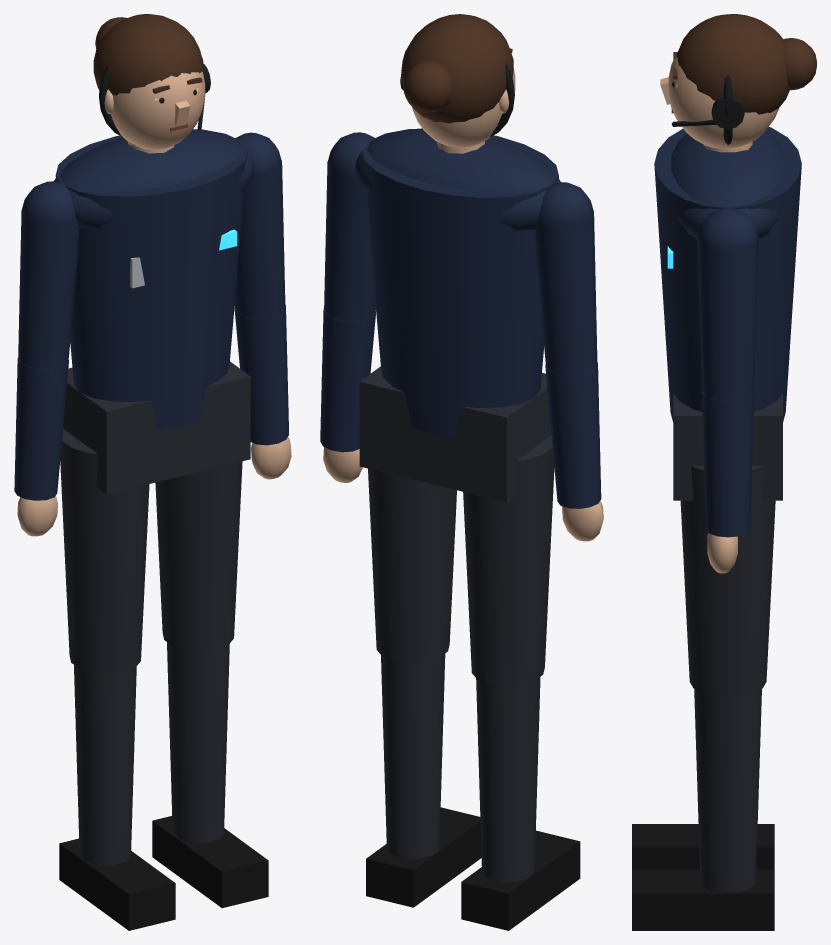
The model's file is char_crowd_2.glb.
3 views of the same model, side by side, from view 1: azimuth 30°, elevation 25°; view 2: azimuth 150°, elevation 25°; view 3: azimuth 270°, elevation 25° (orthographic). The views are drawn at different scales.
Visible parts, largest first — view 1: Torso__Char_Navy, Thigh__Char_Pants (×2), Shin__Char_Pants (×2), UpperArm__Char_Navy (×2), Pelvis__Char_Pants, Shin__Char_Shoes (×2), Forearm__Char_Navy (×2), Head_Mesh__Char_Hair_Brown, Head_Mesh__Char_Skin_C, Forearm__Char_Skin_C (×2), Head_Mesh__Graphite_Dark; view 2: Torso__Char_Navy, Thigh__Char_Pants (×2), Shin__Char_Pants (×2), UpperArm__Char_Navy (×2), Pelvis__Char_Pants, Forearm__Char_Navy (×2), Shin__Char_Shoes (×2), Head_Mesh__Char_Hair_Brown, Head_Mesh__Char_Skin_C, Forearm__Char_Skin_C (×2); view 3: Torso__Char_Navy, Thigh__Char_Pants, Shin__Char_Pants, Shin__Char_Shoes (×2), UpperArm__Char_Navy, Head_Mesh__Char_Hair_Brown, Forearm__Char_Navy, Pelvis__Char_Pants, Head_Mesh__Char_Skin_C, Head_Mesh__Graphite_Dark, Forearm__Char_Skin_C.
Boxes of the visible parts, x1,y1,x2,y2 form: Torso__Char_Navy: [54, 129, 254, 430]; Thigh__Char_Pants (×2): [60, 429, 242, 673]; Shin__Char_Pants (×2): [74, 642, 229, 865]; UpperArm__Char_Navy (×2): [18, 132, 285, 369]; Pelvis__Char_Pants: [63, 361, 250, 494]; Shin__Char_Shoes (×2): [59, 816, 268, 930]; Forearm__Char_Navy (×2): [14, 304, 288, 500]; Head_Mesh__Char_Hair_Brown: [93, 14, 203, 95]; Head_Mesh__Char_Skin_C: [104, 71, 205, 153]; Forearm__Char_Skin_C (×2): [17, 437, 291, 536]; Head_Mesh__Graphite_Dark: [99, 57, 210, 136]; Torso__Char_Navy: [355, 128, 560, 437]; Thigh__Char_Pants (×2): [368, 435, 554, 686]; Shin__Char_Pants (×2): [381, 654, 540, 882]; UpperArm__Char_Navy (×2): [324, 132, 597, 374]; Pelvis__Char_Pants: [359, 366, 551, 502]; Forearm__Char_Navy (×2): [320, 308, 601, 508]; Shin__Char_Shoes (×2): [366, 807, 580, 930]; Head_Mesh__Char_Hair_Brown: [401, 14, 513, 123]; Head_Mesh__Char_Skin_C: [411, 68, 515, 153]; Forearm__Char_Skin_C (×2): [323, 447, 603, 541]; Torso__Char_Navy: [654, 127, 801, 422]; Thigh__Char_Pants: [680, 465, 775, 696]; Shin__Char_Pants: [694, 689, 761, 892]; Shin__Char_Shoes (×2): [632, 824, 774, 930]; UpperArm__Char_Navy: [697, 207, 758, 400]; Head_Mesh__Char_Hair_Brown: [676, 14, 816, 114]; Forearm__Char_Navy: [701, 391, 754, 537]; Pelvis__Char_Pants: [673, 394, 782, 500]; Head_Mesh__Char_Skin_C: [660, 52, 779, 152]; Head_Mesh__Graphite_Dark: [671, 75, 744, 144]; Forearm__Char_Skin_C: [707, 533, 737, 573].
Size of the model in its own units: 0.5852 by 1.76 by 0.3368.
